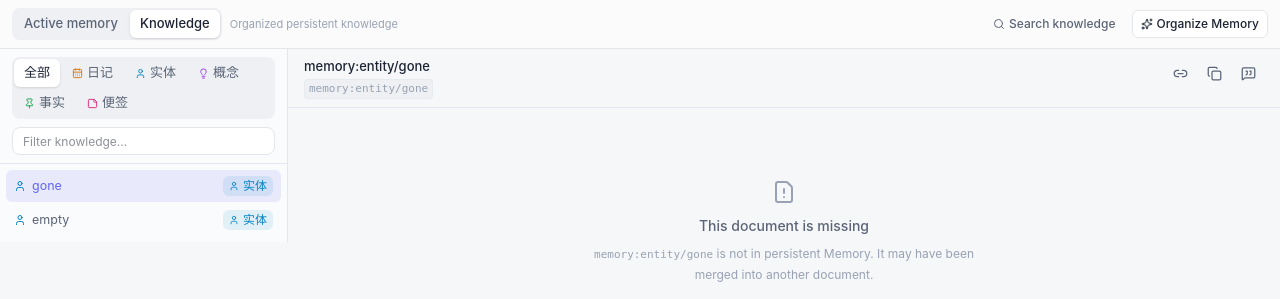
Scenario: MemoryPage documents › distinguishes a missing document from an empty one
Click the button titled "memory:entity/empty" at [51, 219], box 6,204 -> 281,236
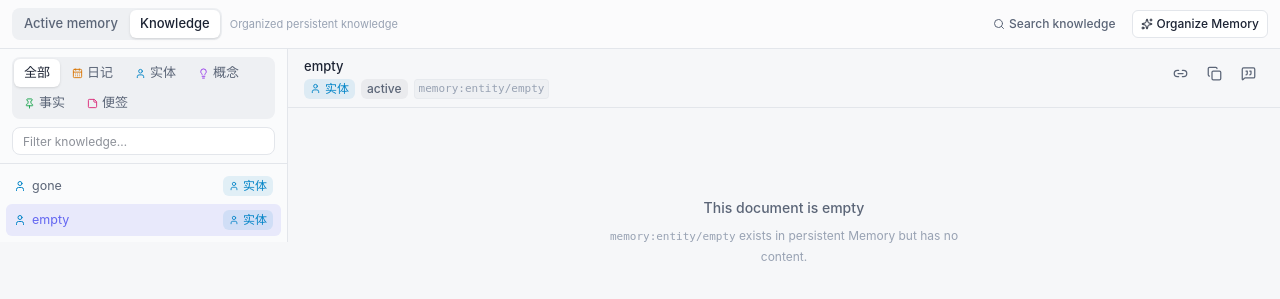
Expected: the text "This document is empty" is shown, 704,198 -> 864,218
Expected: the text "This document is missing" is gone
